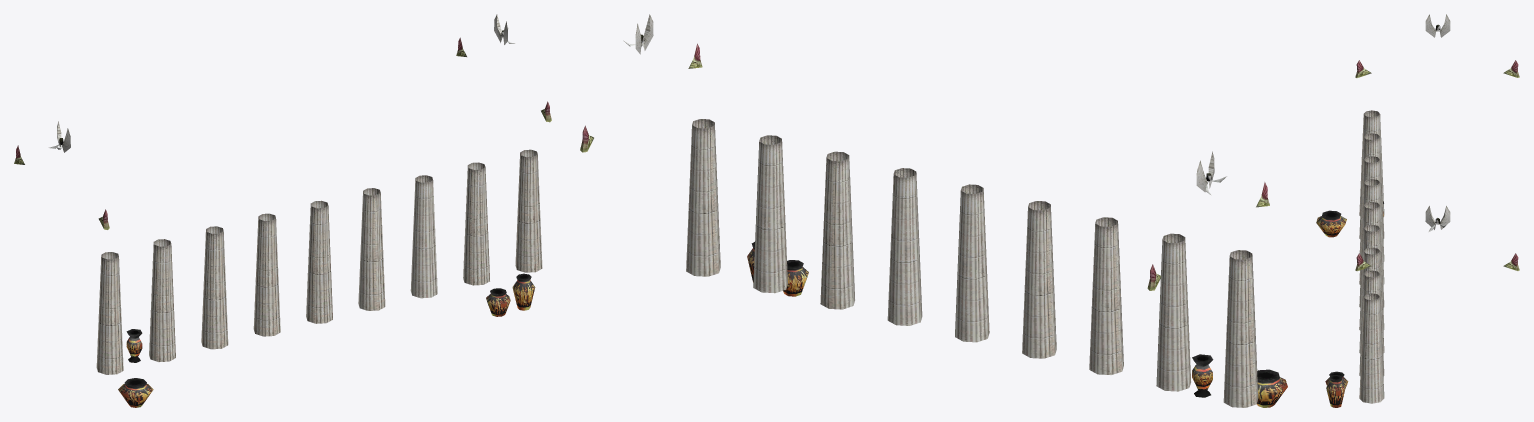
File: hele_stoa_props_a.dae
3 views of the same model, side by side, from view 1: azimuth 30°, elevation 25°; view 2: azimuth 150°, elevation 25°; view 3: azimuth 270°, elevation 25° (orthographic). The views are drawn at different scales.
Visible parts, largest first — view 1: antefix01-Pivot; view 2: antefix01-Pivot; view 3: antefix01-Pivot.
Part boxes in pixels (<box>): antefix01-Pivot: <box>14,14,551,407</box>; antefix01-Pivot: <box>580,14,1287,407</box>; antefix01-Pivot: <box>1316,14,1519,407</box>.
Size of the model in its own units: 26.09 by 11.12 by 12.98.
